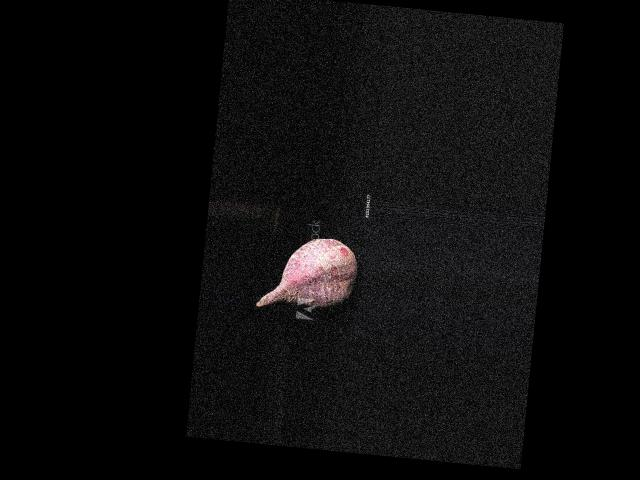beet: (256, 231, 359, 314)
